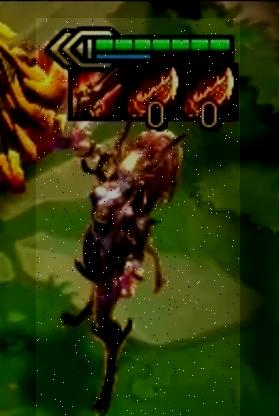3_zyra: (36, 18, 240, 416)
